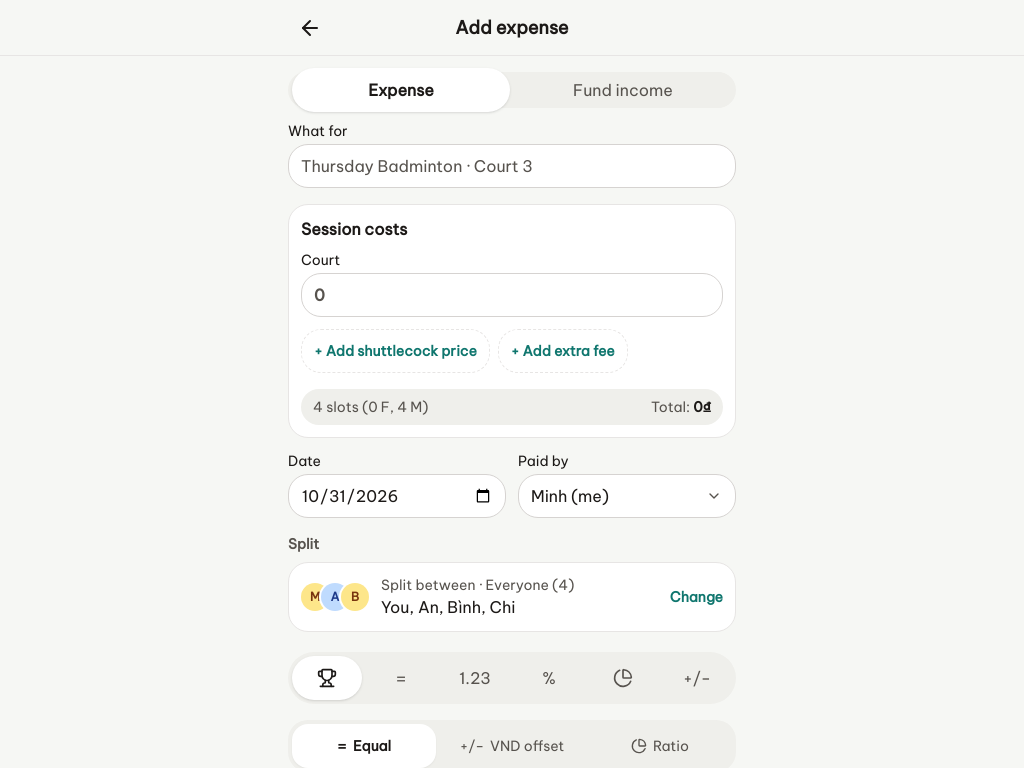
Test case: fund income form › admins in a sport group see the switcher; Fund income shows Amount, Date and Note
The width and height of the screenshot is (1024, 768).
Click the tab "Fund income". click: {"x": 623, "y": 90}
box: [514,68,732,112]
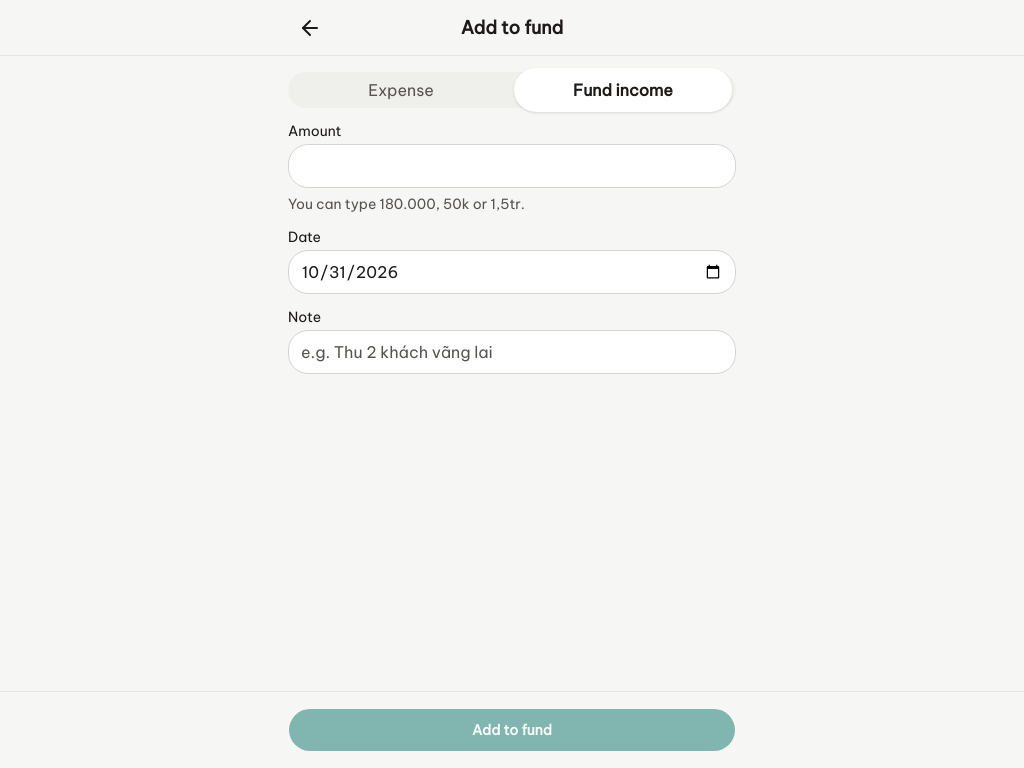
Expected: the field labelled "Note" is shown, [288,330,736,374]
Expected: the date field labelled "Date" is shown, [288,250,736,294]
Expected: the text "Paid by" is gone
